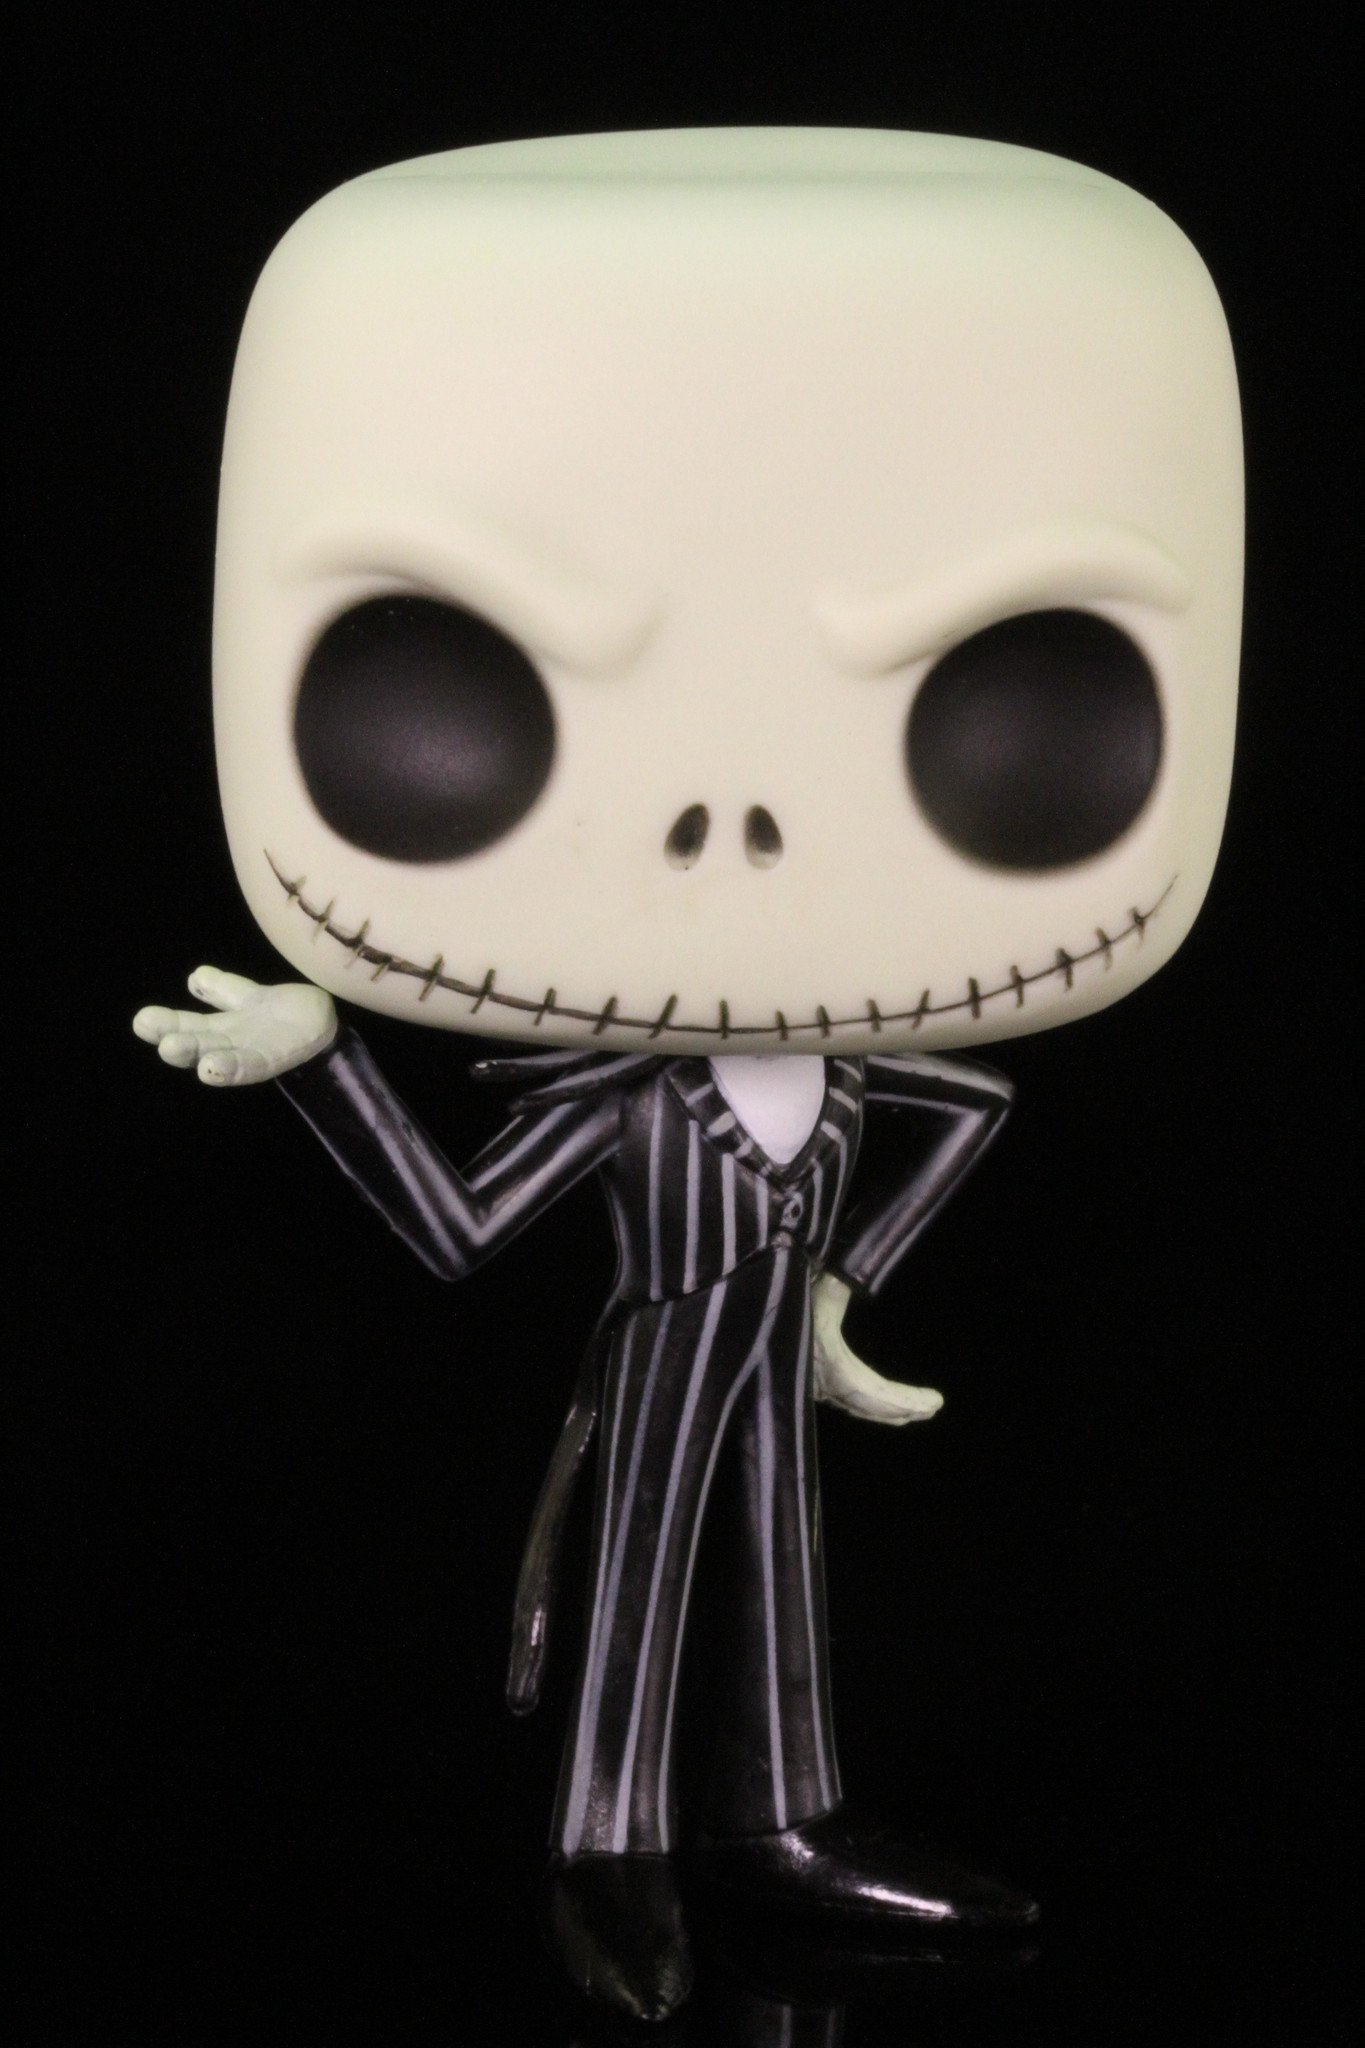Jack Skellington: (123, 120, 1254, 2037)
